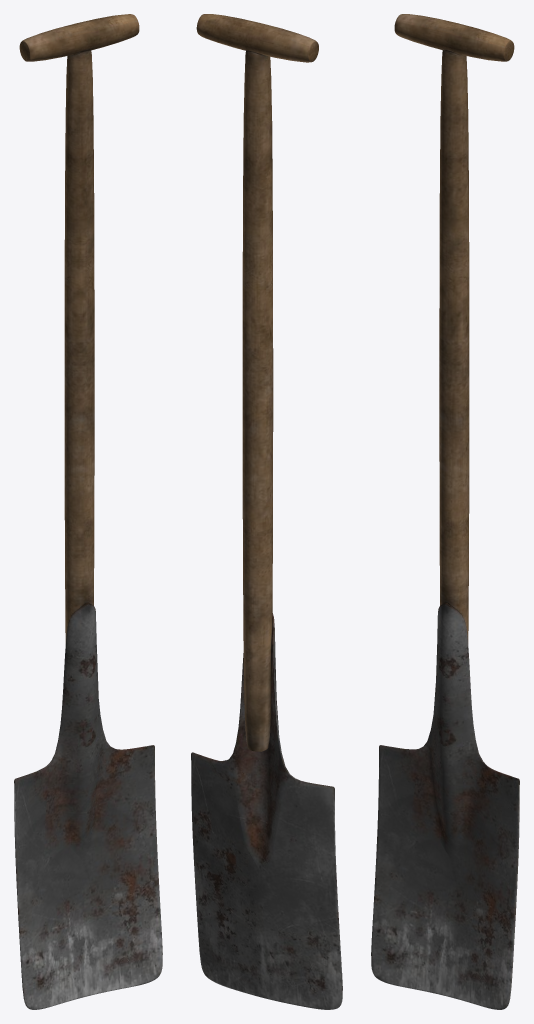
The model's file is spade.glb.
The picture shows the model from 3 angles, left to right: view 1: azimuth 30°, elevation 25°; view 2: azimuth 150°, elevation 25°; view 3: azimuth 330°, elevation 25°; orthographic projection. The views are drawn at different scales.
Parts seen in each view (by area): view 1: rusted_spade_01; view 2: rusted_spade_01; view 3: rusted_spade_01.
Boxes of the visible parts, x1,y1,x2,y2 form: rusted_spade_01: (14,14,162,1009); rusted_spade_01: (191,14,342,1009); rusted_spade_01: (371,14,519,1009).
Bounding box in the file's own units: 0.1681 × 1.1 × 0.0456.
1 material, 1 textured.
